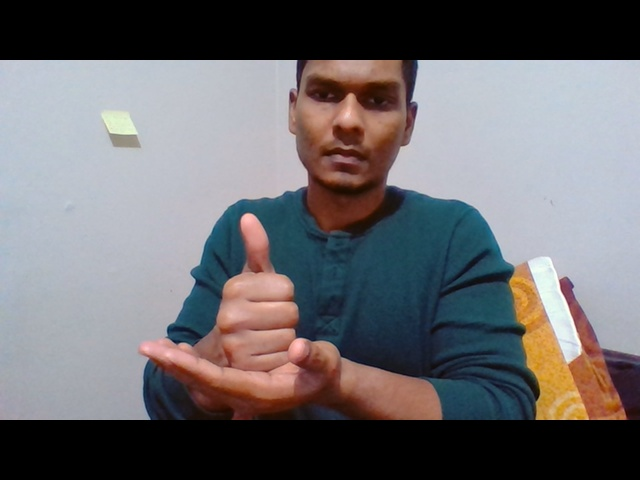Help: (138, 209, 346, 420)
